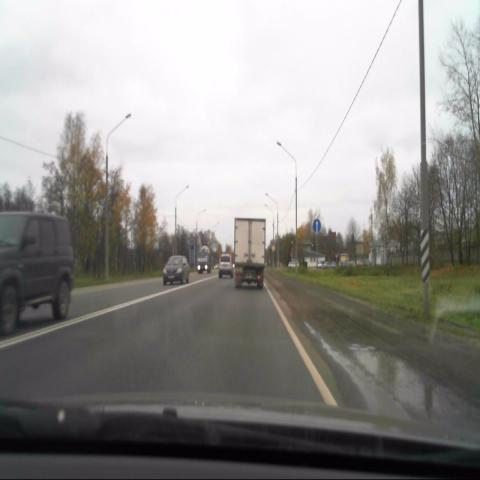4_1_1: (311, 216, 323, 236)
